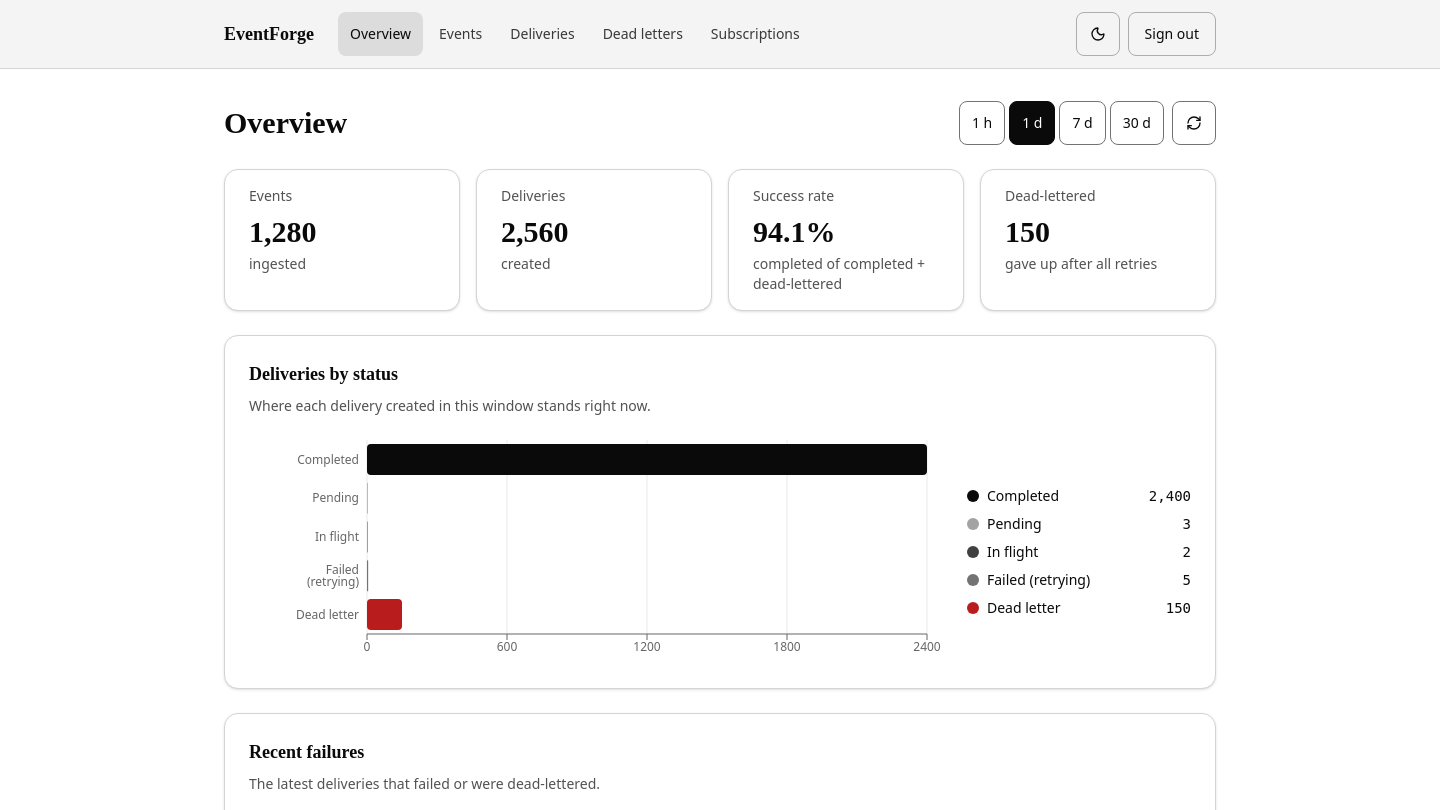
Test: Overview › keeps showing the last data when a refresh fails
expect the text "1,280" is shown: met, box [249,215,316,248]
Click the button named "Refresh" at {"x": 1194, "y": 123}, box [1172,101,1216,145]
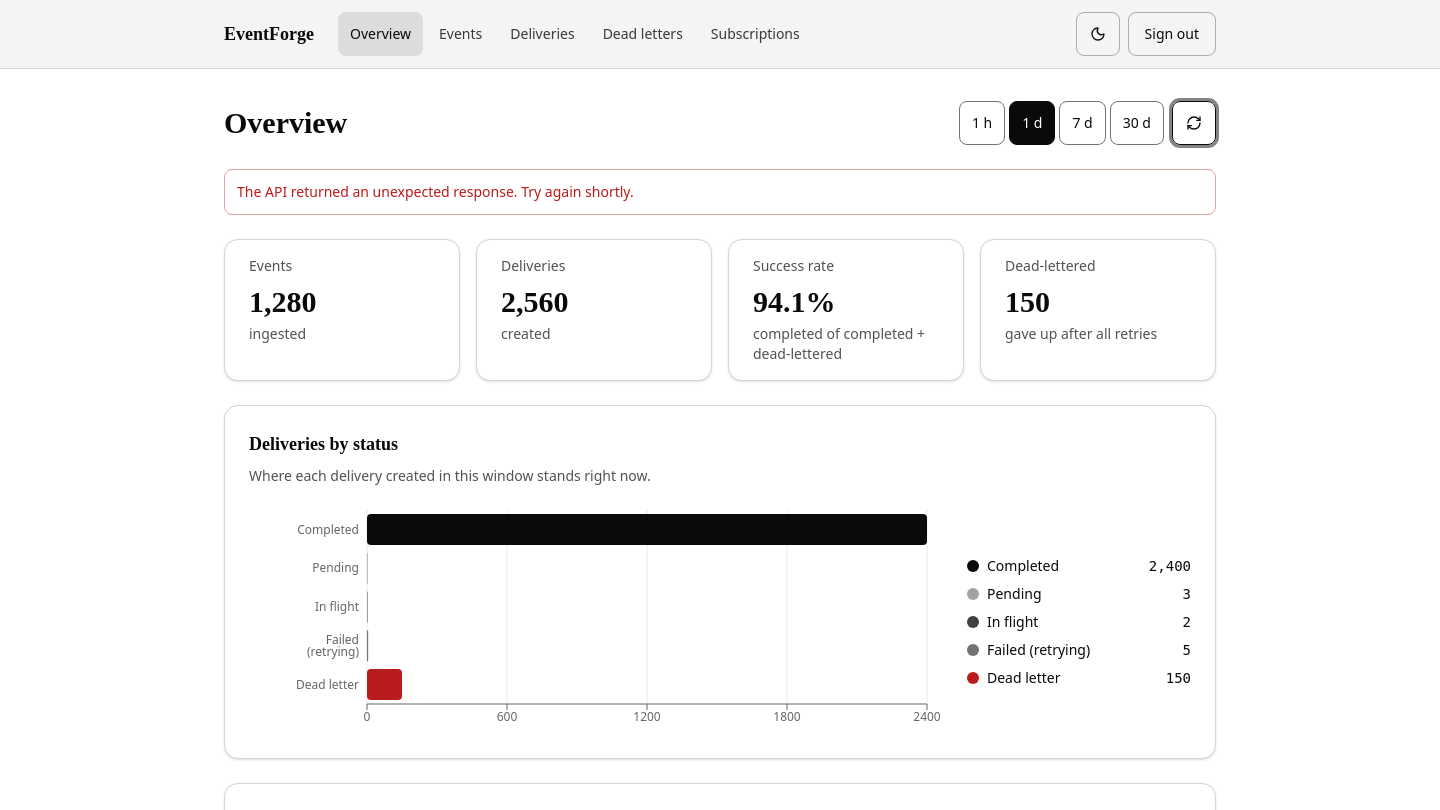
expect the text "1,280" is shown: met, box [249,285,316,318]
expect the message shows "unexpected response": met, box [237,182,634,201]
